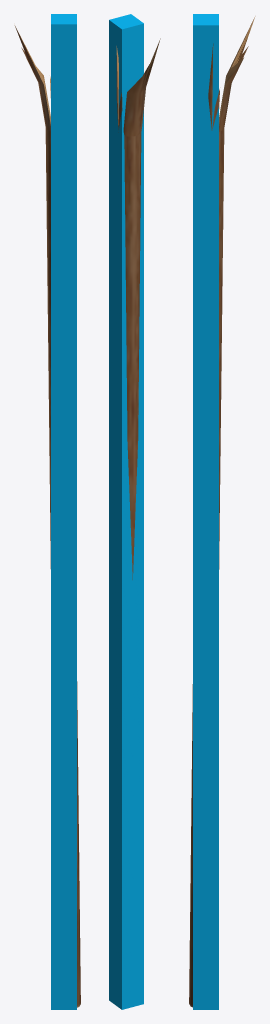
Rendered from JWC_Arrow_A_07.fbx.
The picture shows the model from 3 angles, left to right: view 1: azimuth 90°, elevation 25°; view 2: azimuth 210°, elevation 25°; view 3: azimuth 270°, elevation 25°; orthographic projection.
Parts seen in each view (by area): view 1: C_JWC_Arrow_A_07, JWC_Arrow_A_07; view 2: C_JWC_Arrow_A_07, JWC_Arrow_A_07; view 3: C_JWC_Arrow_A_07, JWC_Arrow_A_07.
Part boxes in pixels (x1=…): C_JWC_Arrow_A_07: x1=51, y1=14, x2=76, y2=1009; JWC_Arrow_A_07: x1=14, y1=25, x2=80, y2=1007; C_JWC_Arrow_A_07: x1=109, y1=14, x2=143, y2=1009; JWC_Arrow_A_07: x1=116, y1=38, x2=160, y2=579; C_JWC_Arrow_A_07: x1=193, y1=14, x2=218, y2=1009; JWC_Arrow_A_07: x1=189, y1=16, x2=255, y2=1007.
Bounding box in the file's own units: 0.0115 × 0.439 × 0.027.
